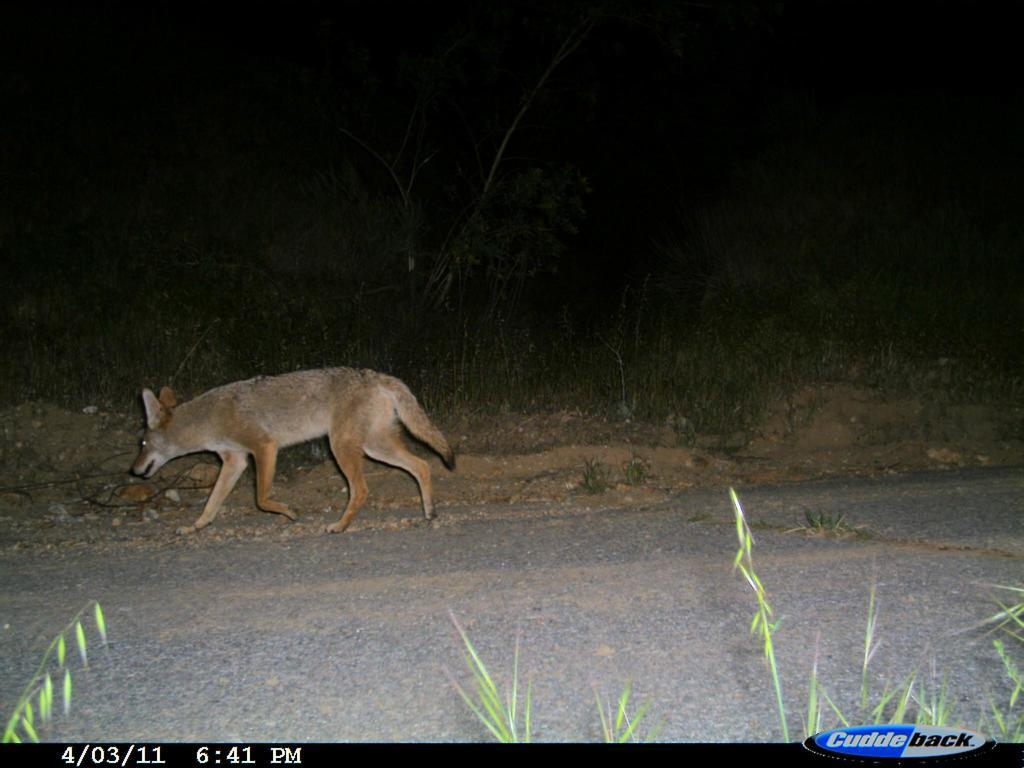coyote: (123, 360, 463, 536)
